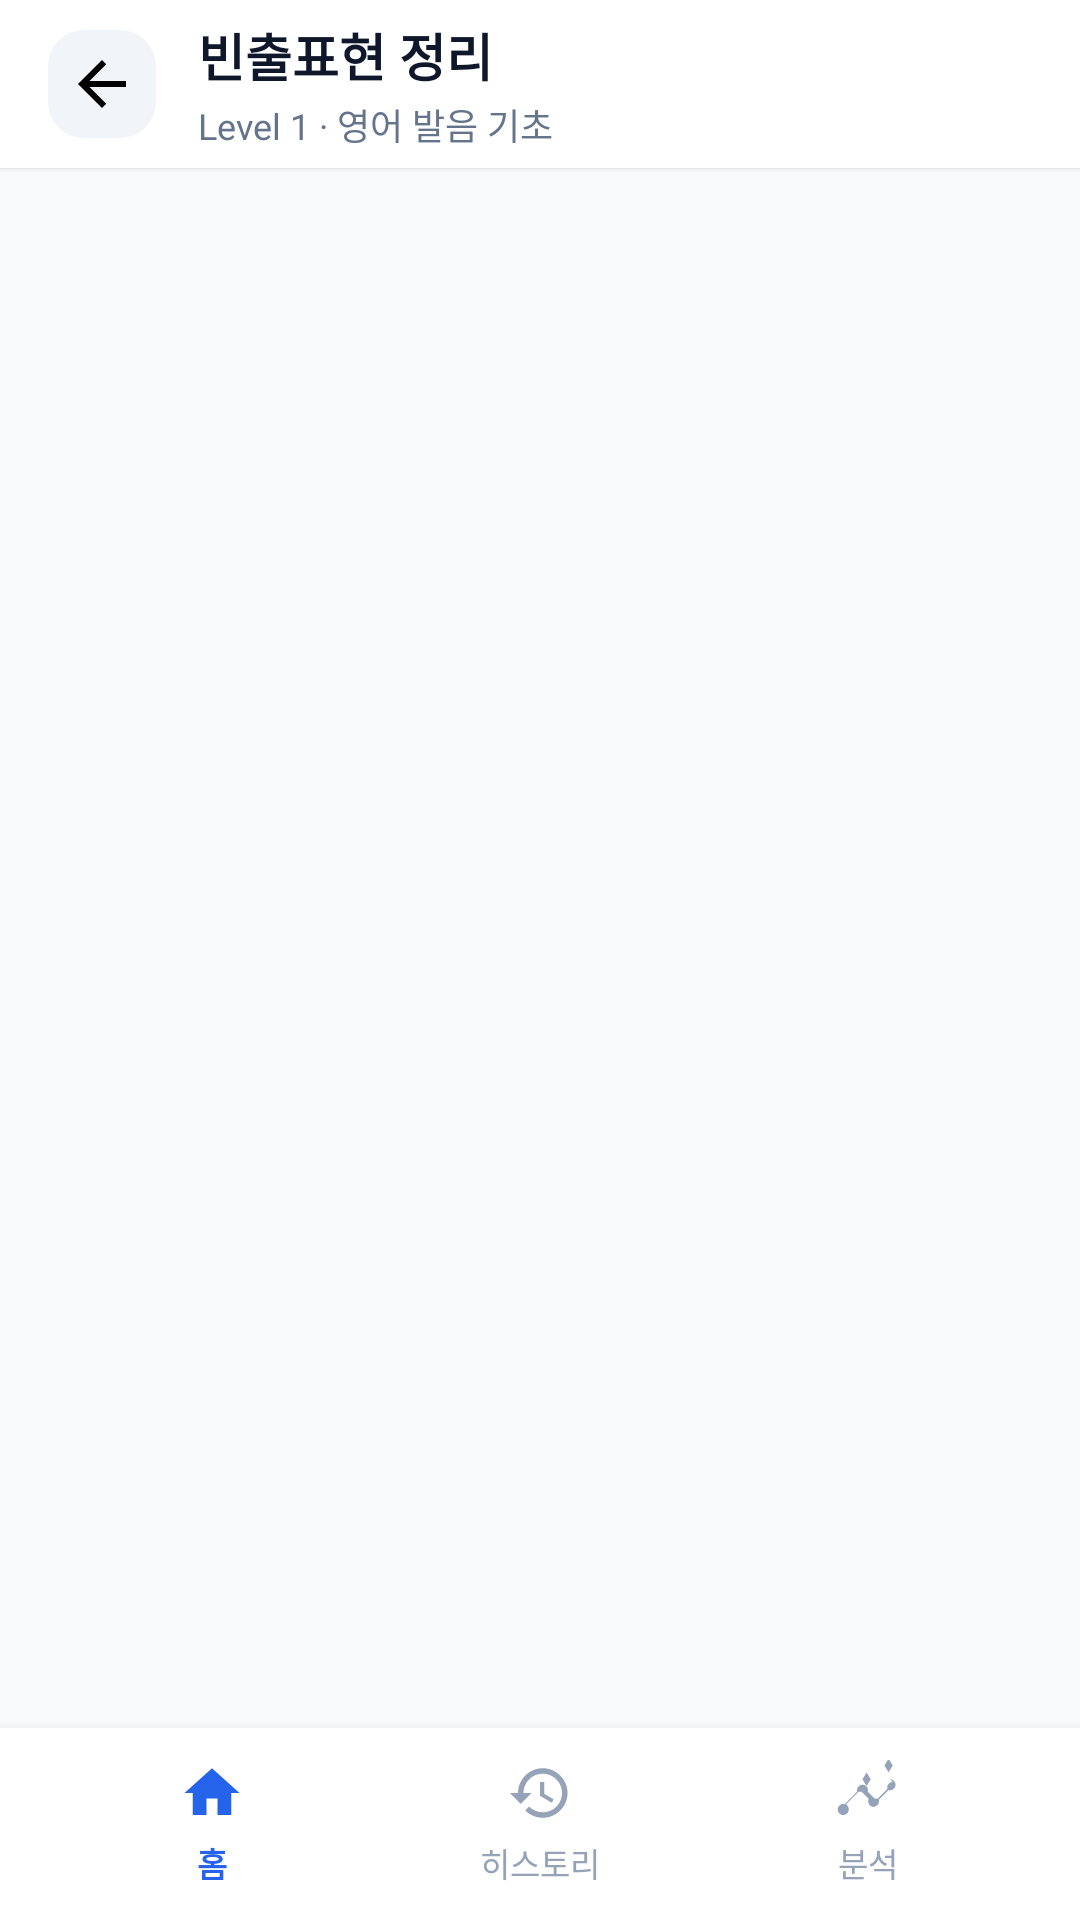

Where to tap for icons on this 1080*1920 app screen, as point (x, y):
back: point (102, 84)
